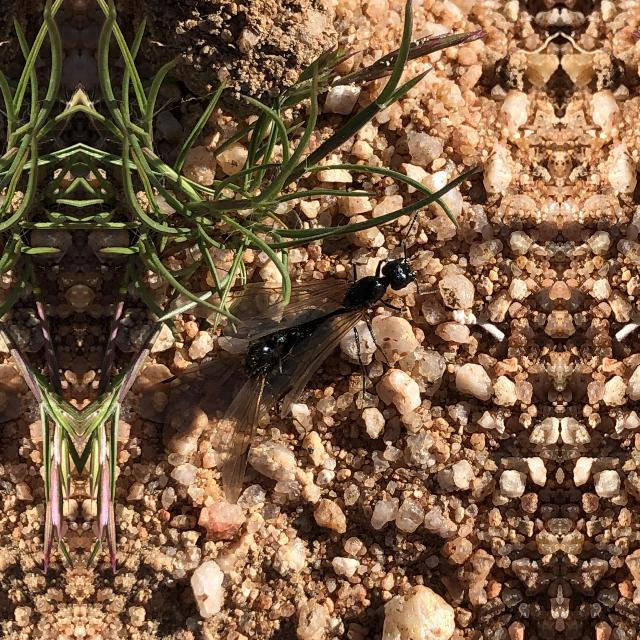Messor: (238, 231, 430, 419)
